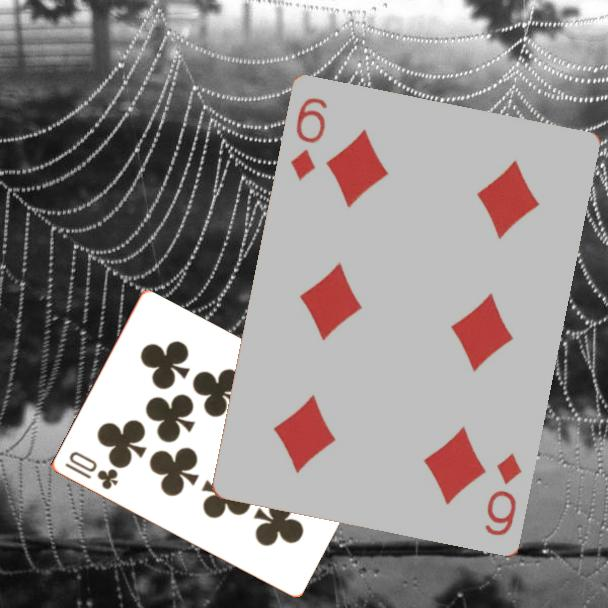c10: (61, 448, 121, 493)
d06: (287, 94, 331, 184), (482, 450, 525, 539)
